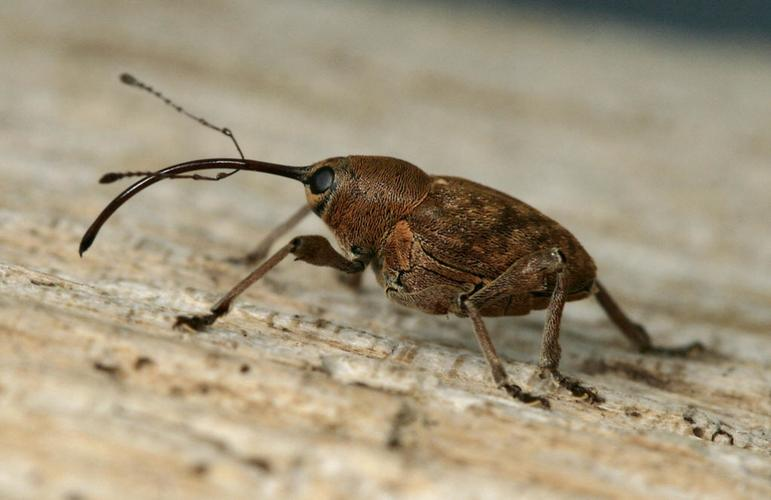Curculionidae: (78, 73, 709, 410)
